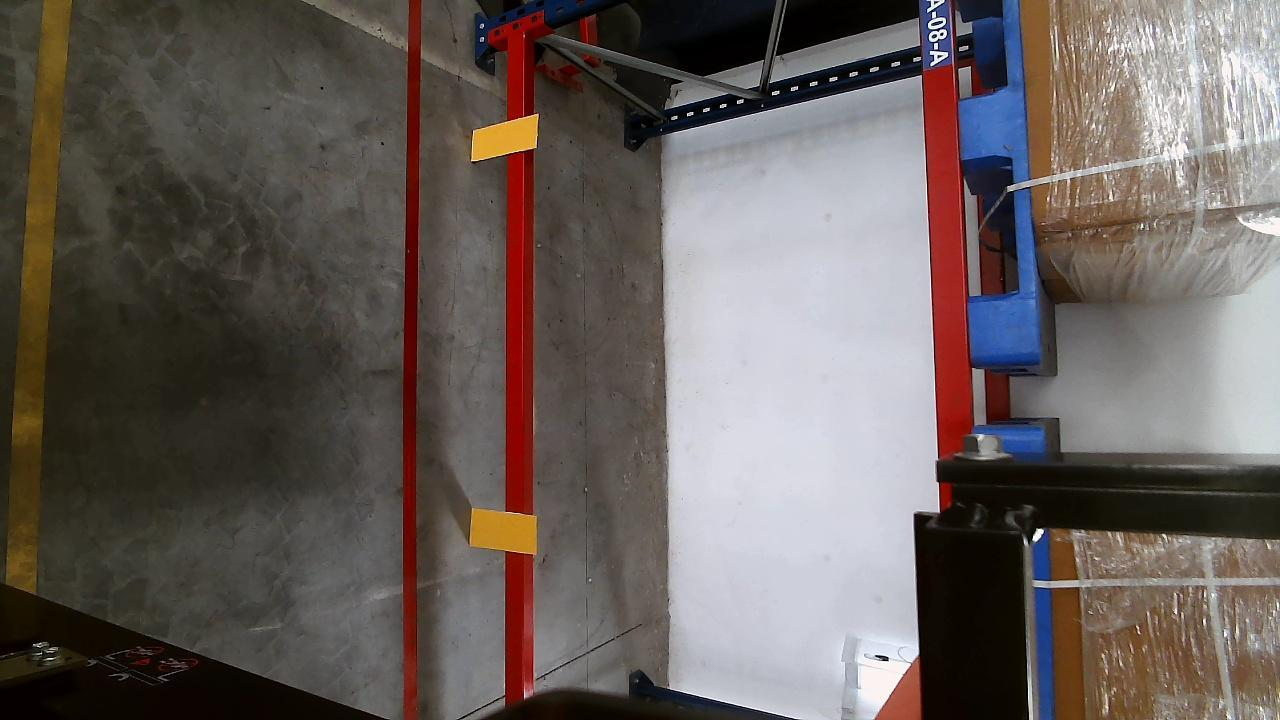h_rack: (919, 0, 972, 445), (504, 34, 525, 708)
orange_strip: (470, 115, 541, 159), (468, 509, 537, 554)
red_line: (401, 0, 424, 718)
small_pallet: (949, 1, 1045, 356)
yellow_line: (5, 0, 71, 588)
